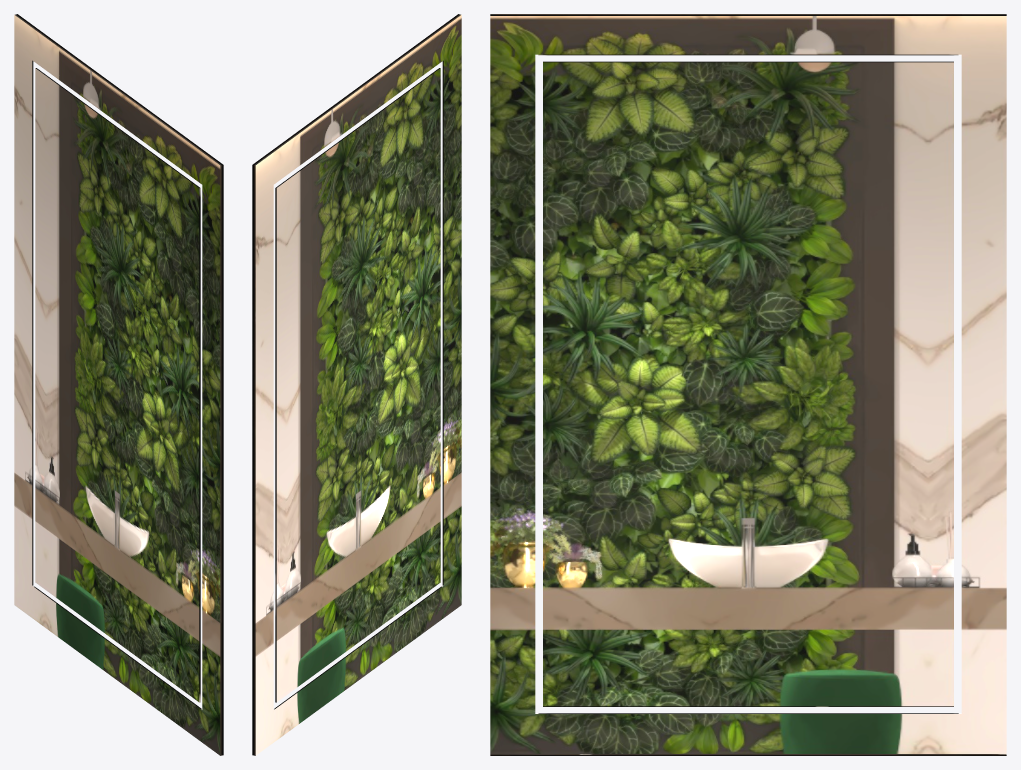
The model's file is bathroom_lushgreen_mirror.glb.
The picture shows the model from 3 angles, left to right: view 1: azimuth 30°, elevation 25°; view 2: azimuth 150°, elevation 25°; view 3: azimuth 270°, elevation 25°; orthographic projection. The views are drawn at different scales.
Parts seen in each view (by area): view 1: Mirror; view 2: Mirror; view 3: Mirror.
Part boxes in pixels (<box>): Mirror: <box>14,14,223,755</box>; Mirror: <box>252,14,461,755</box>; Mirror: <box>490,14,1006,755</box>.
Size of the model in its own units: 0.015 by 2.72 by 1.72.
Materials: 1 (1 with a texture image).
